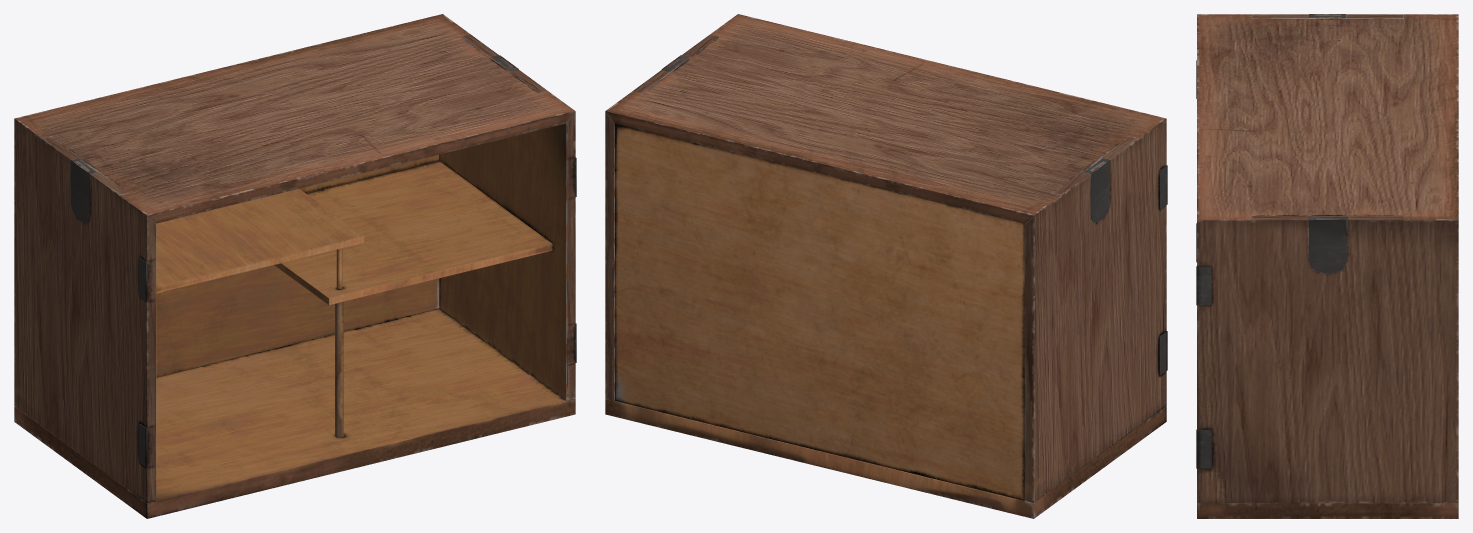
File: SM_CupBoard205_Body.fbx
3 views of the same model, side by side, from view 1: azimuth 30°, elevation 25°; view 2: azimuth 150°, elevation 25°; view 3: azimuth 270°, elevation 25° (orthographic).
Parts seen in each view (by area): view 1: SM_CupBoard205_Body; view 2: SM_CupBoard205_Body; view 3: SM_CupBoard205_Body.
Part boxes in pixels (box(x1,y1,x2,y2)): SM_CupBoard205_Body: box(14, 14, 576, 518); SM_CupBoard205_Body: box(605, 14, 1167, 518); SM_CupBoard205_Body: box(1196, 14, 1458, 518).
Bounding box in the file's own units: 91.63 × 61.78 × 49.1.
1 material, 1 textured.
